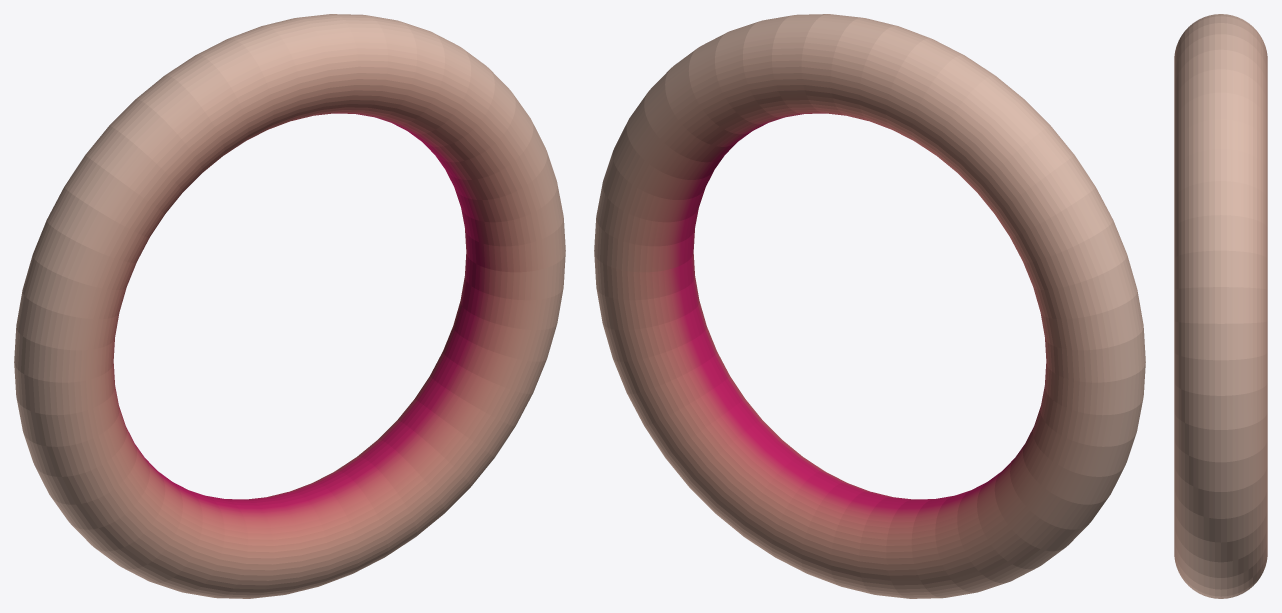
The picture shows the model from 3 angles, left to right: view 1: azimuth 30°, elevation 25°; view 2: azimuth 150°, elevation 25°; view 3: azimuth 270°, elevation 25°; orthographic projection. The views are drawn at different scales.
Parts seen in each view (by area): view 1: world; view 2: world; view 3: world.
Boxes of the visible parts, <box> form: world: <box>14,14,565,598</box>; world: <box>594,14,1145,598</box>; world: <box>1174,14,1267,598</box>.
Size of the model in its own units: 34.13 by 34.07 by 5.46.
